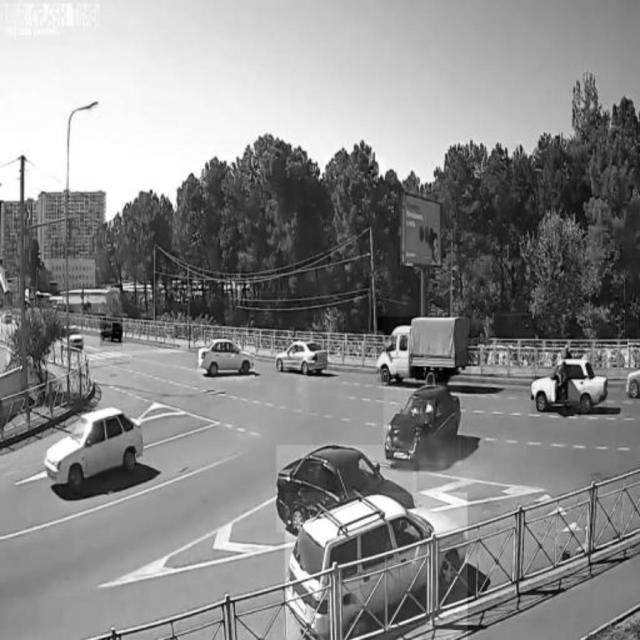vehicle: (284, 493, 468, 640), (277, 445, 417, 533), (43, 405, 145, 493), (384, 383, 461, 466), (378, 316, 471, 382), (532, 355, 608, 415), (198, 338, 255, 380), (274, 338, 331, 378), (99, 318, 123, 346)
